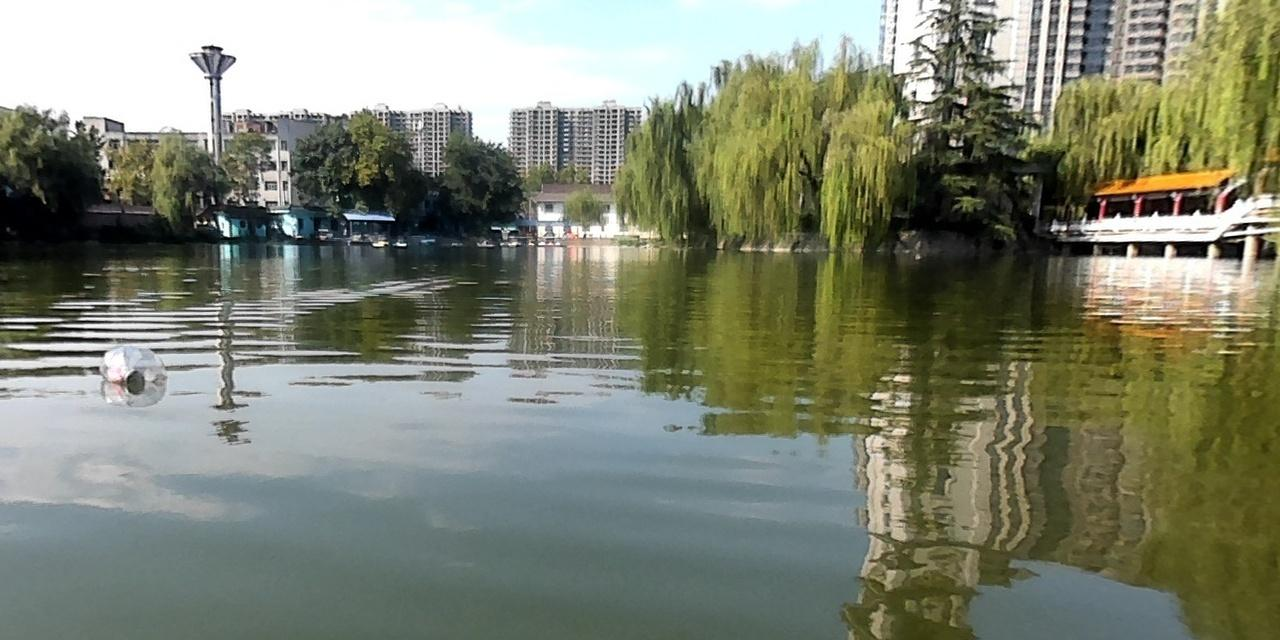bottle: (99, 346, 163, 385)
